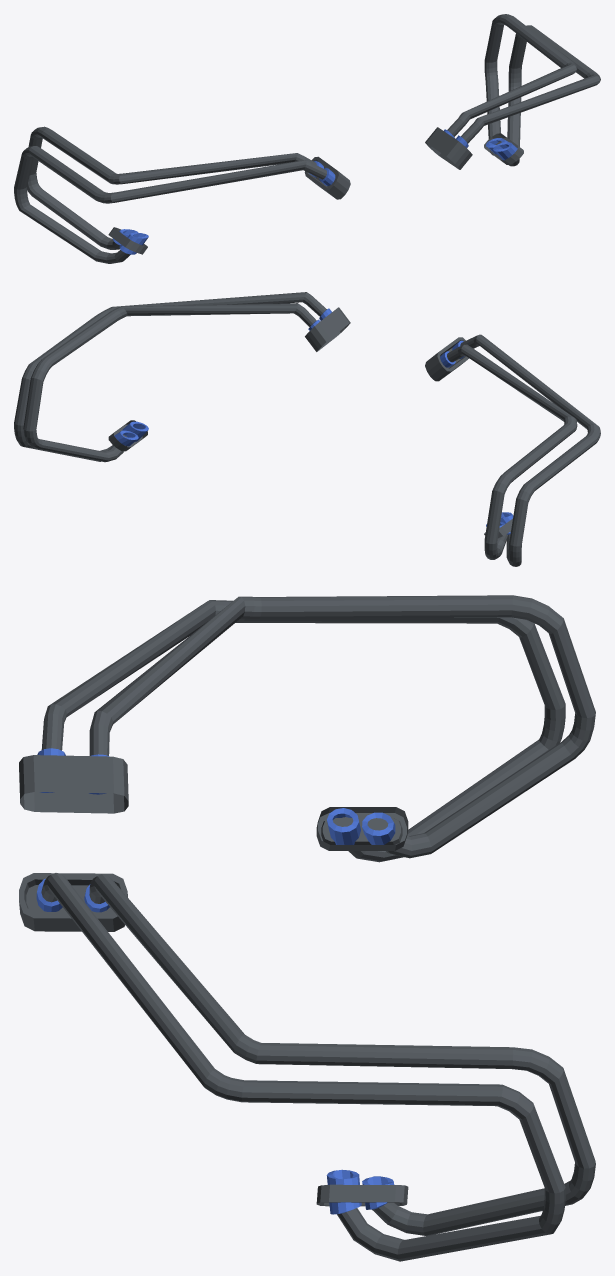
Rendered from Personal_Vehicle_04_Pipes_Blue.fbx.
3 renders of one model, top to bottom at view 1: azimuth 30°, elevation 25°; view 2: azimuth 150°, elevation 25°; view 3: azimuth 270°, elevation 25°, orthographic. The views are drawn at different scales.
Visible parts, largest first — view 1: Personal_Vehicle_04_Pipes_Blue; view 2: Personal_Vehicle_04_Pipes_Blue; view 3: Personal_Vehicle_04_Pipes_Blue.
Boxes of the visible parts, x1,y1,x2,y2 form: Personal_Vehicle_04_Pipes_Blue: (14,14,600,263); Personal_Vehicle_04_Pipes_Blue: (14,292,600,566); Personal_Vehicle_04_Pipes_Blue: (19,595,595,1261).
Size of the model in its own units: 233 by 59.09 by 115.
Materials: 1 (1 with a texture image).
